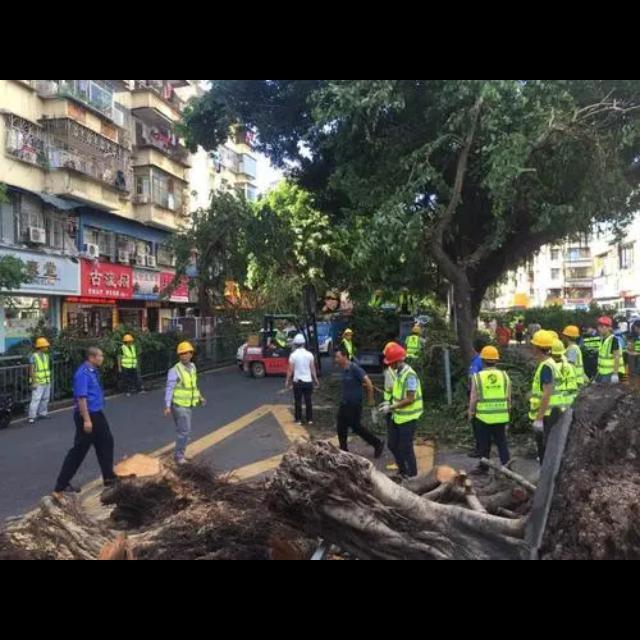fallen_tree: (26, 444, 594, 560)
